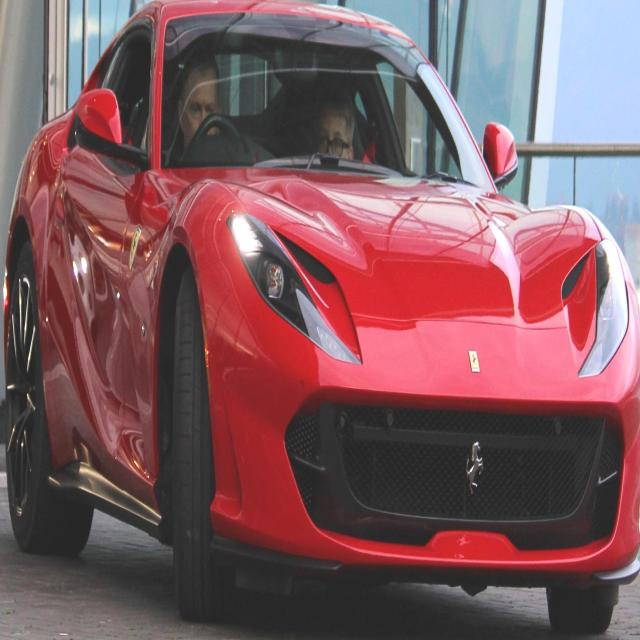red: (4, 13, 633, 600)
